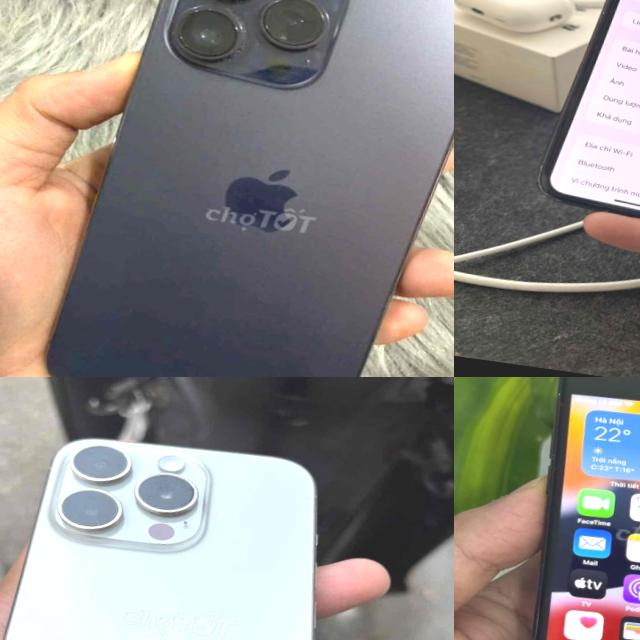gen_11: (541, 0, 640, 217)
gen_14: (31, 0, 454, 377)
gen_15: (0, 409, 372, 640)
gen_7_8: (488, 377, 640, 640)
scratch: (545, 377, 574, 396)
